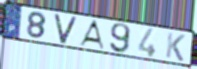4: (137, 27, 158, 59)
8: (26, 10, 46, 39)
9: (109, 23, 132, 54)
A: (77, 19, 105, 51)
K: (164, 31, 187, 63)
V: (54, 13, 79, 45)
